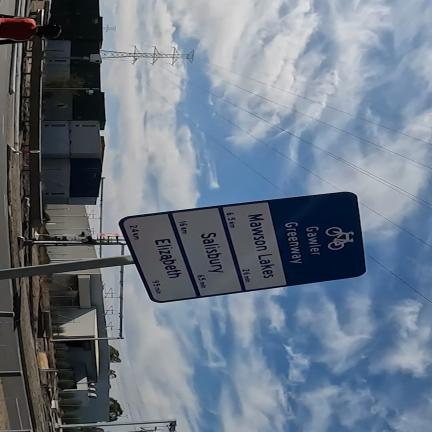Bike_Sign: (68, 192, 366, 303)
